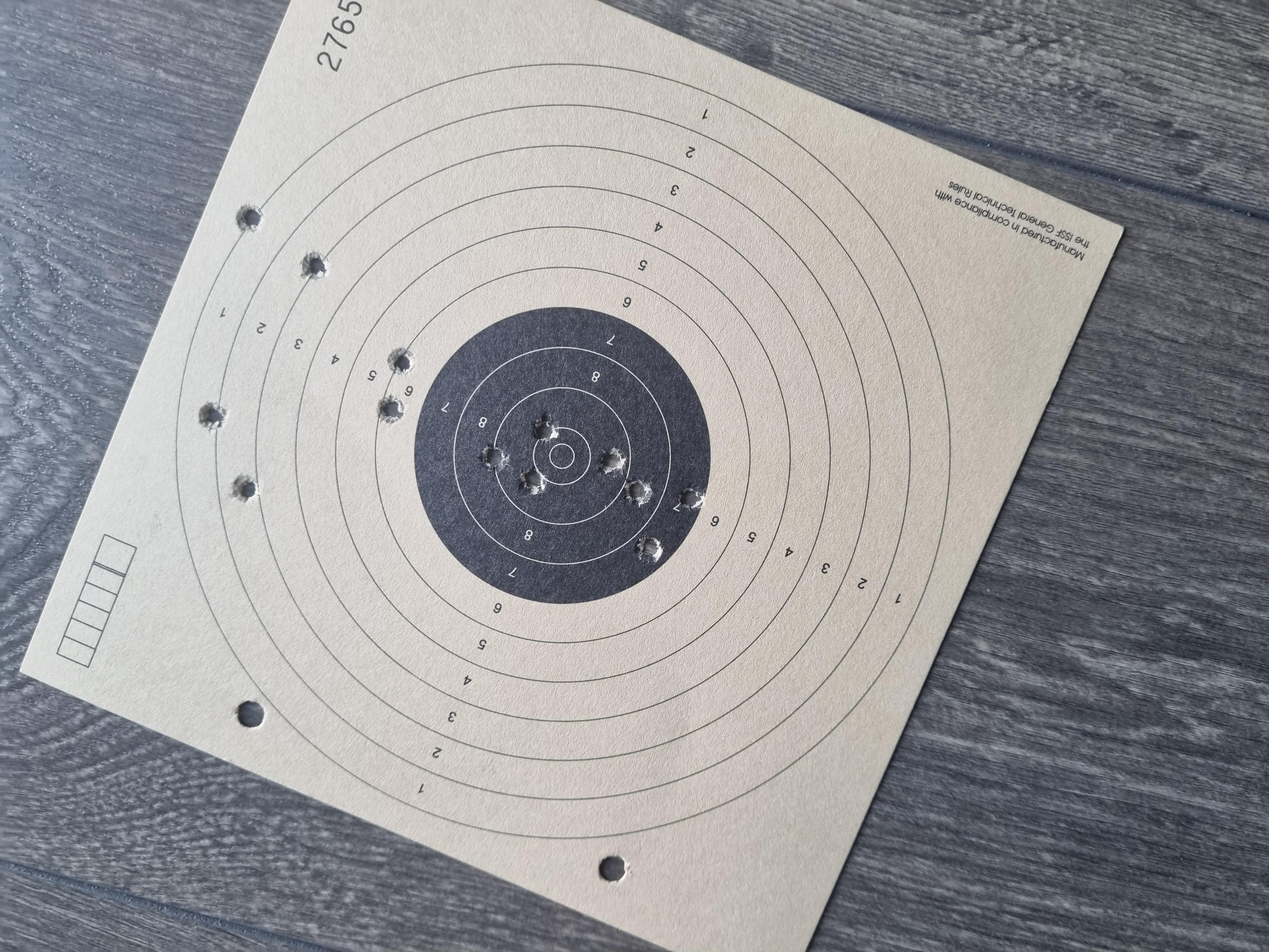hole: (628, 442, 681, 473), (893, 220, 944, 251), (582, 502, 631, 534), (592, 167, 642, 198), (953, 170, 1002, 201), (765, 284, 810, 317), (599, 386, 652, 414), (589, 464, 635, 496), (687, 147, 736, 176), (676, 394, 725, 422), (696, 275, 744, 303), (512, 473, 559, 501), (634, 358, 682, 383)
